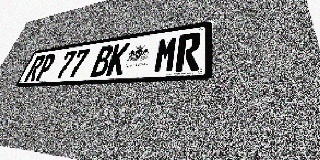7: (66, 48, 90, 79), (54, 50, 77, 80)
B: (90, 45, 115, 77)
K: (105, 42, 131, 76)
M: (153, 35, 179, 73)
P: (34, 53, 57, 81)
R: (175, 32, 201, 72), (24, 55, 46, 82)
